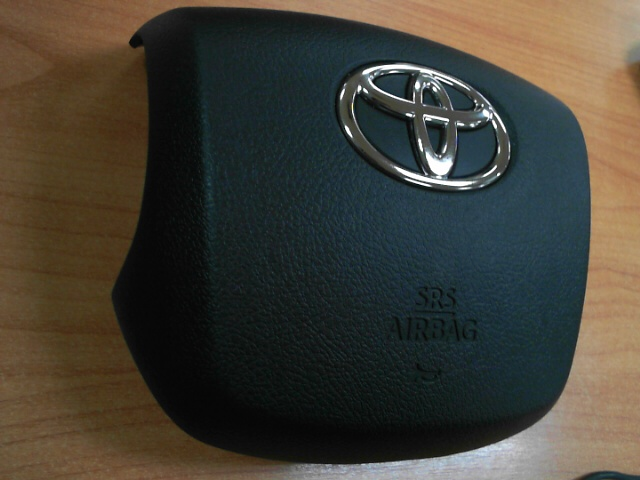AirbagV2: (110, 6, 586, 460)
